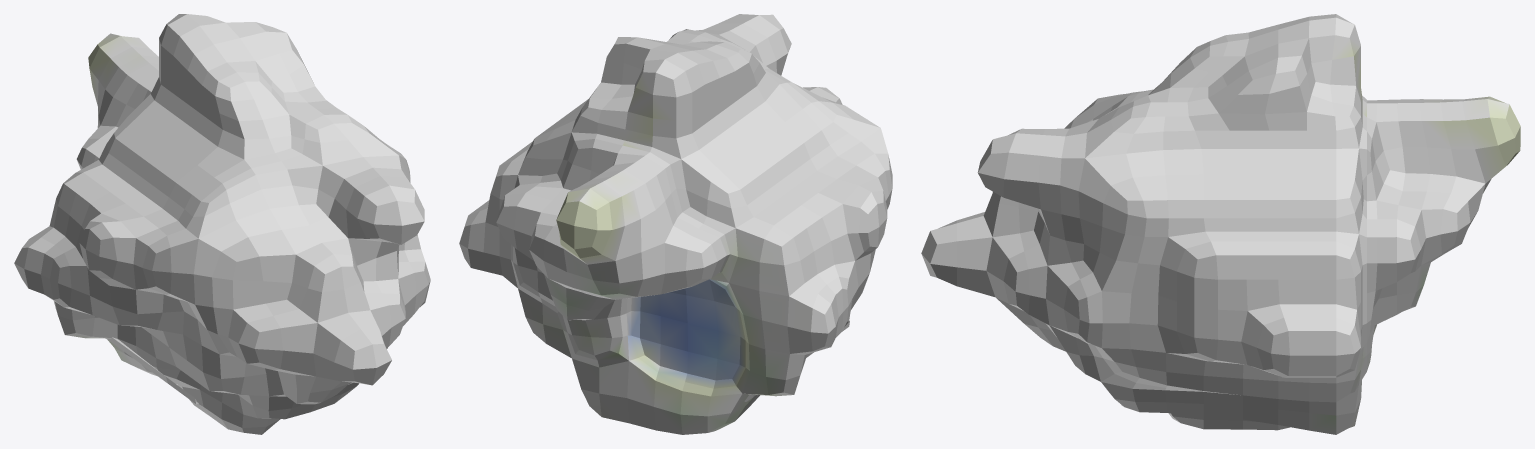
The model's file is island.fbx.
3 views of the same model, side by side, from view 1: azimuth 30°, elevation 25°; view 2: azimuth 150°, elevation 25°; view 3: azimuth 270°, elevation 25° (orthographic). The views are drawn at different scales.
Parts seen in each view (by area): view 1: Base, Water; view 2: Base; view 3: Base.
Part boxes in pixels (<box>): Base: <box>14,14,430,434</box>; Water: <box>106,337,198,404</box>; Base: <box>459,14,892,434</box>; Base: <box>921,14,1520,434</box>.
Size of the model in its own units: 1020 by 1014 by 1358.
